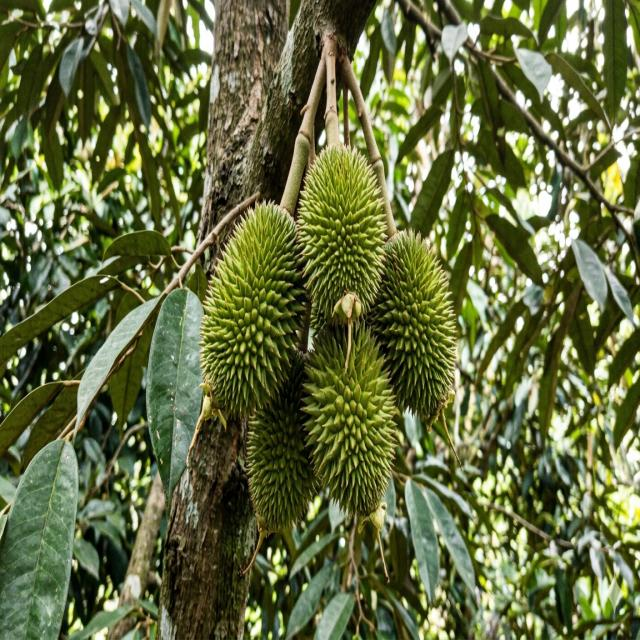immature: (200, 200, 308, 421), (301, 318, 400, 524), (295, 140, 391, 332), (370, 228, 458, 426), (245, 344, 322, 538)
